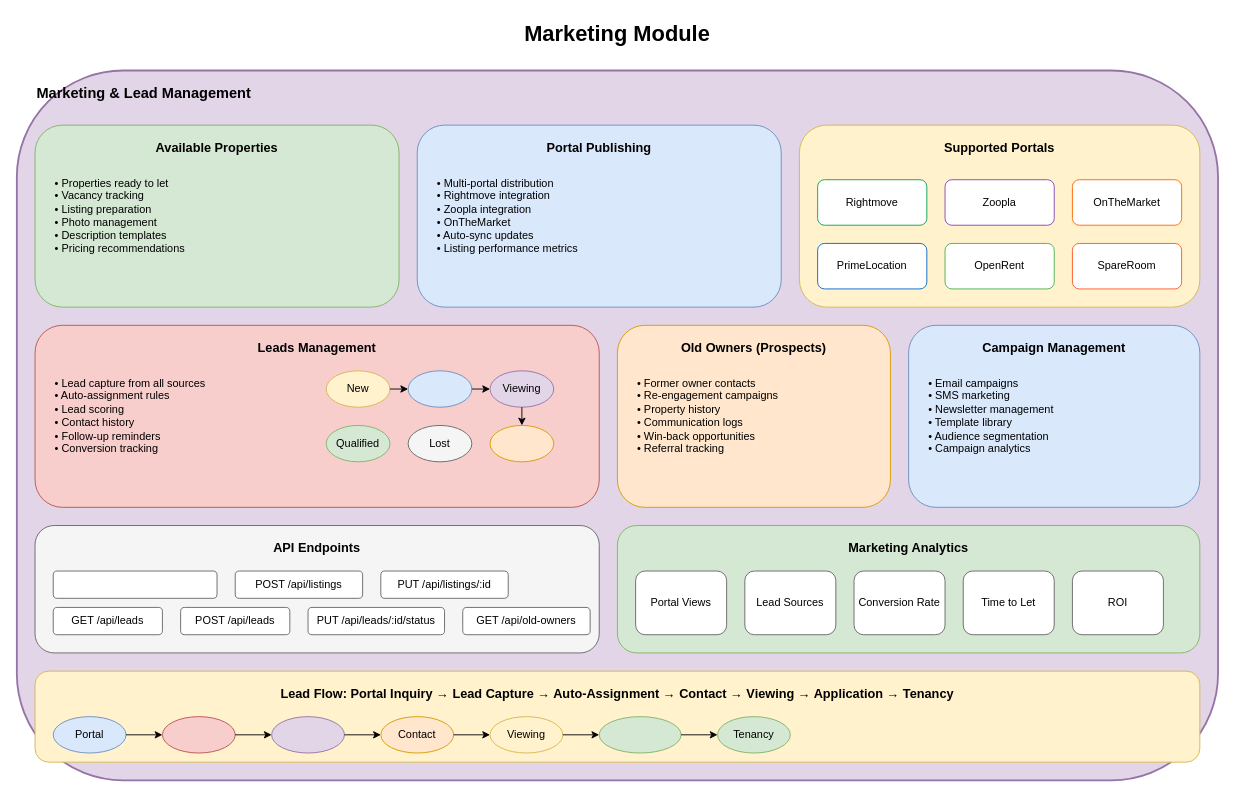
The diagram is 1234 pixels wide and 796 high, and some of its shapes have lost their labels. The shapes that lost their labels are listed below. From the top down, each one's centre as x and y in pixels, then its label:
At [439,388]: "Contacted".
At [521,443]: "Applied".
At [134,584]: "GET /api/marketing/properties".
At [198,734]: "Lead".
At [307,734]: "Agent".
At [639,734]: "Application".
